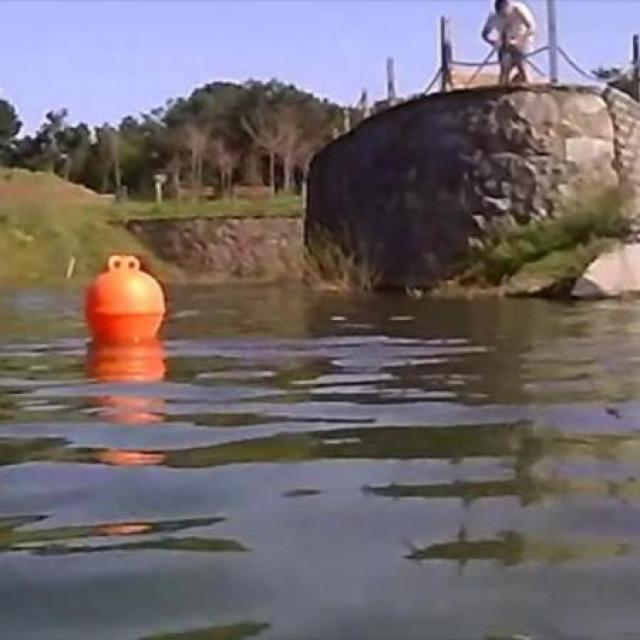buoy: (88, 254, 167, 348)
